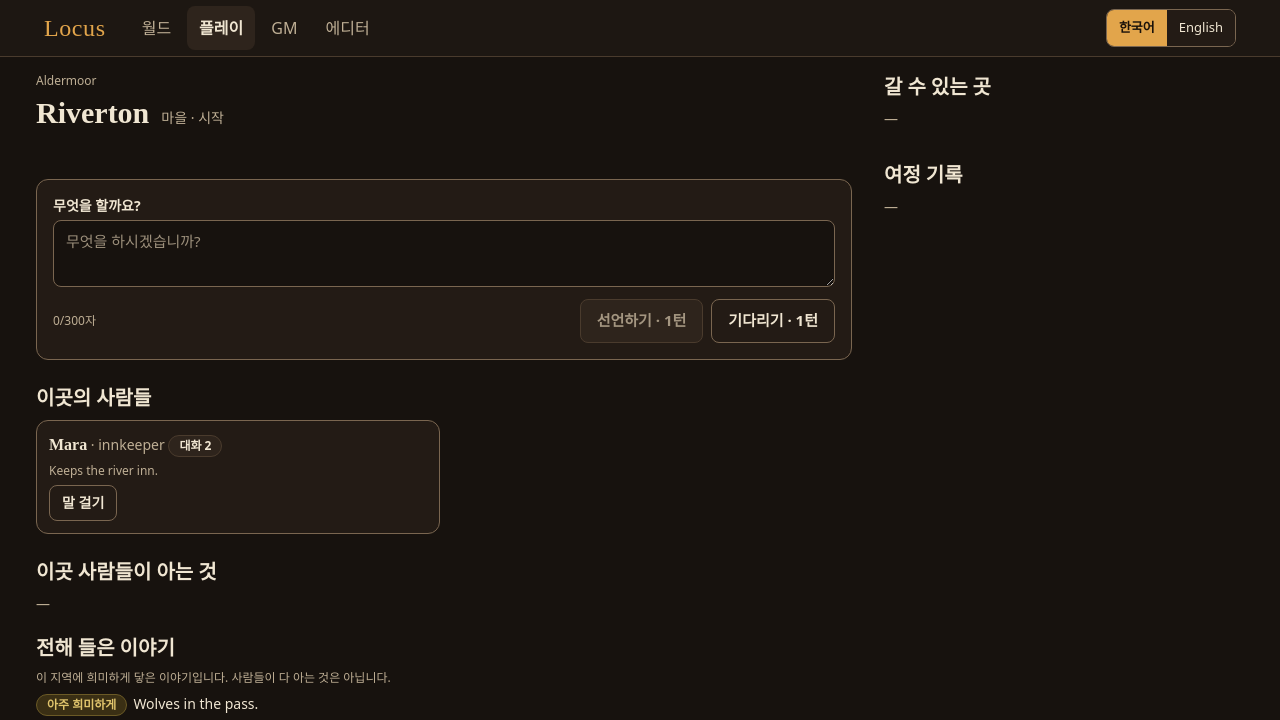
Test: PlayPage with dialogue and the language toggle › talk opens the panel; end talk spends a turn with EndTalk and closes it
Click the button with test id "npc-n1-talk-btn" at {"x": 83, "y": 503}, box [49,485,117,521]
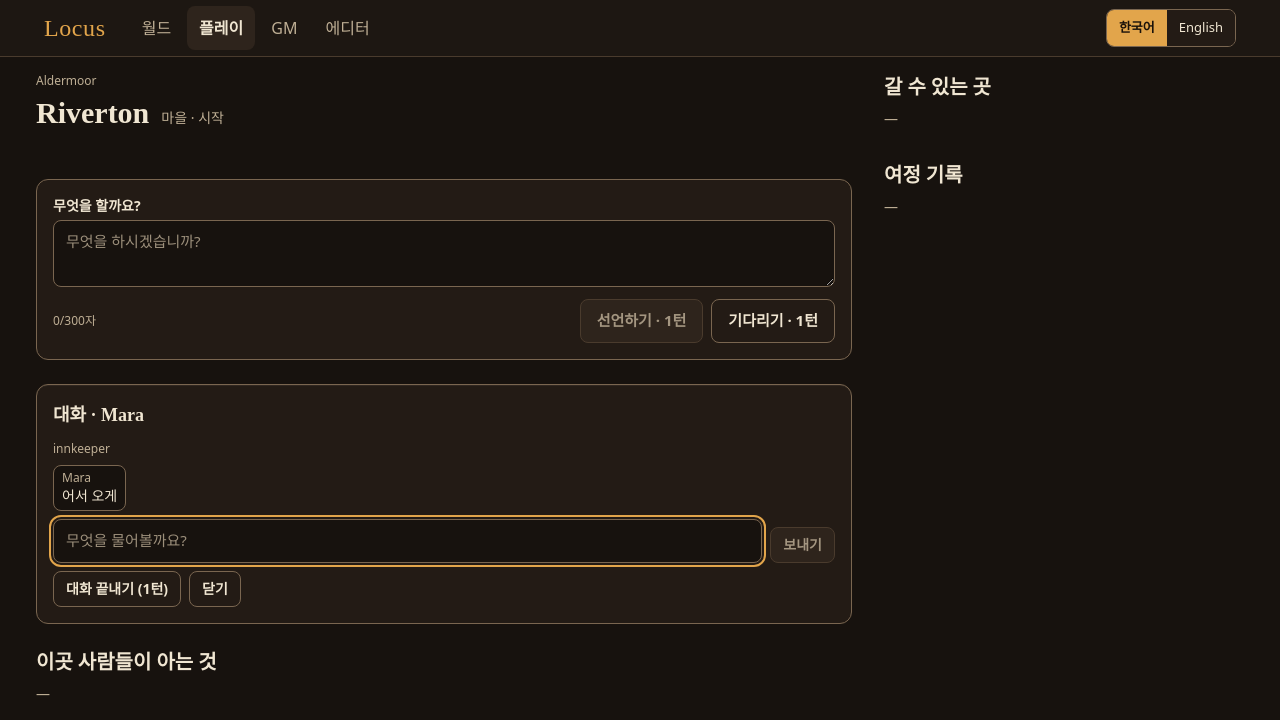
Expected: the element with test id "dialogue-panel" is shown, [36,384,852,624]
Expected: the list item with test id "dialogue-msg-npc" shows "어서 오게", [62,486,117,505]
Click the button with test id "dialogue-end-btn" at {"x": 117, "y": 589}, box [53,571,181,607]
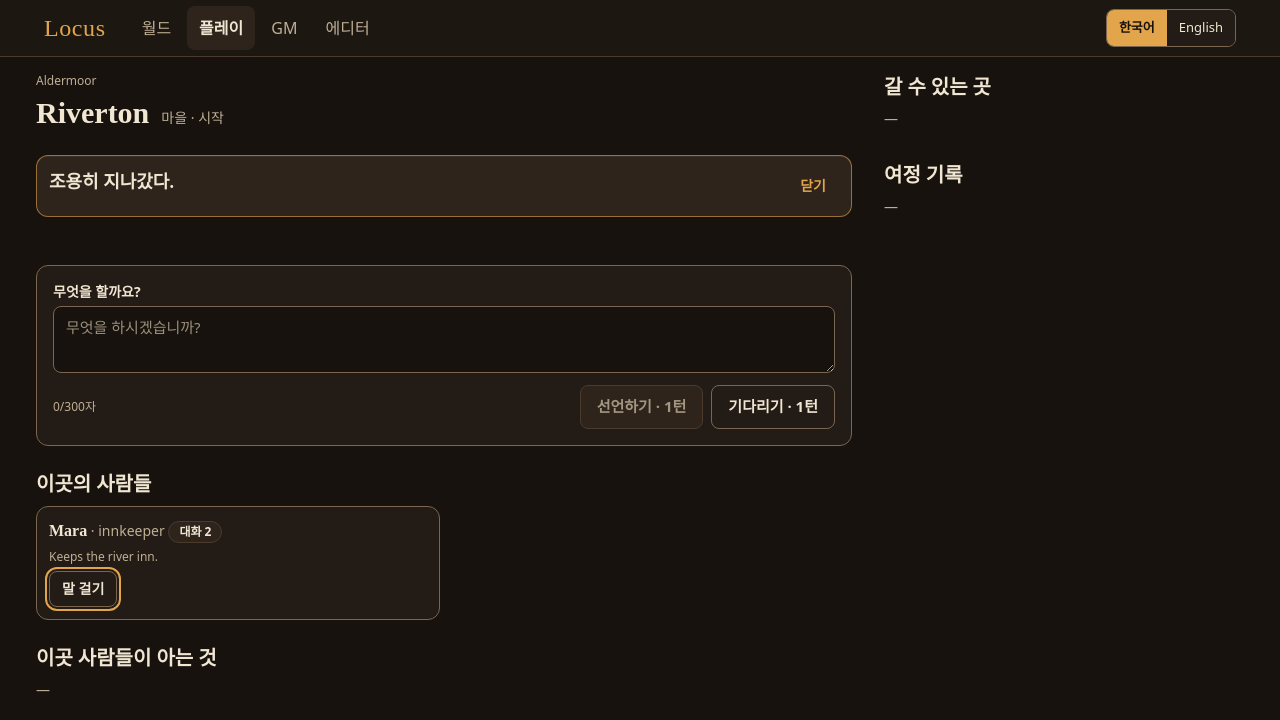
Expected: the element with test id "dialogue-panel" is gone
